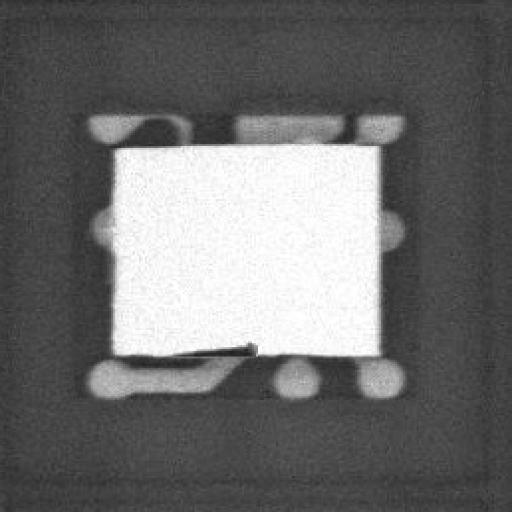DIE_BROKEN: (177, 334, 258, 358)
